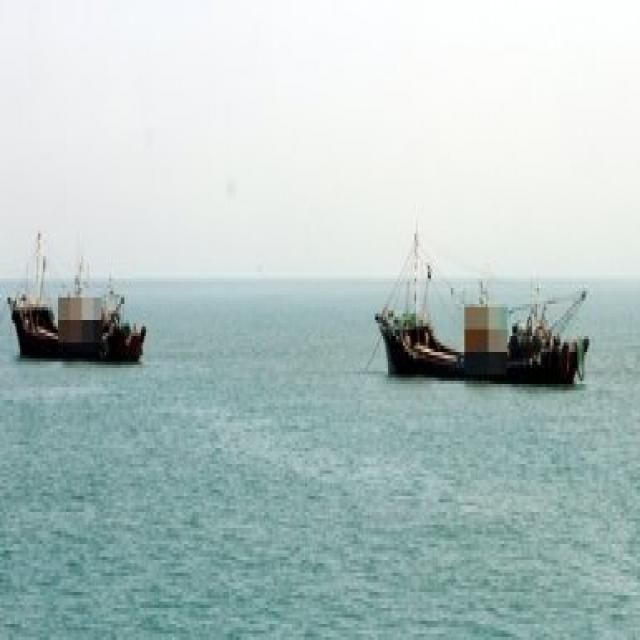Ship: (357, 203, 613, 414), (3, 196, 159, 388)
